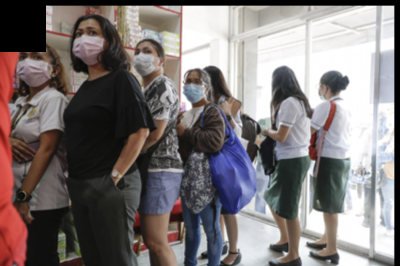with_mask: (71, 25, 106, 66), (17, 48, 53, 87), (133, 46, 157, 76), (183, 76, 206, 103), (317, 82, 329, 102)
